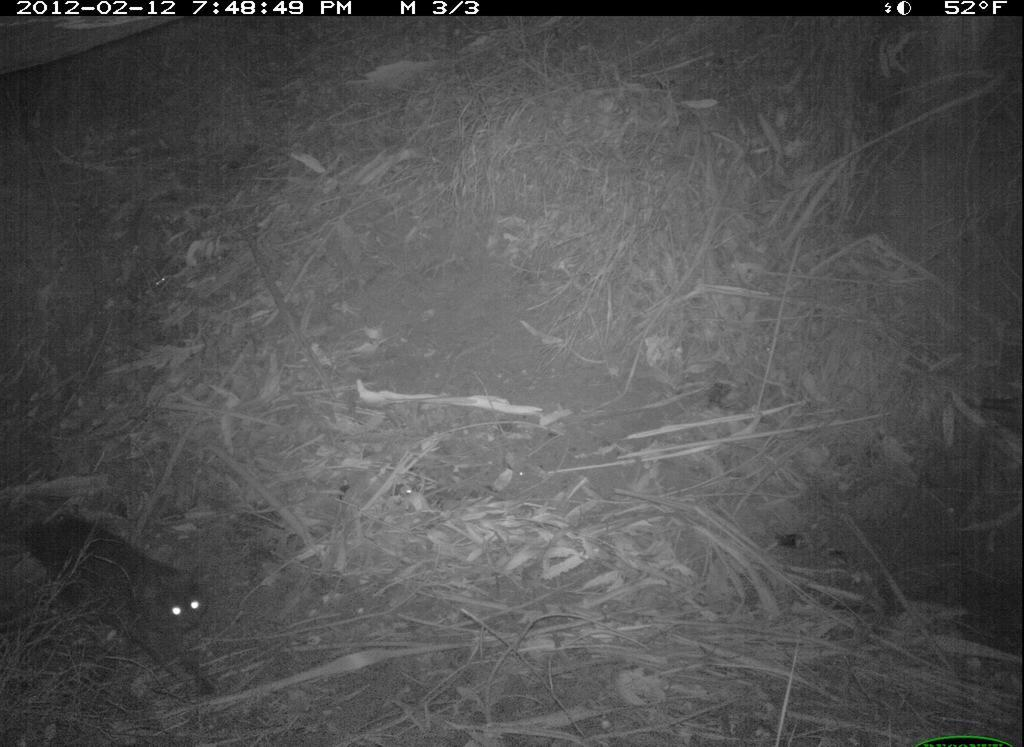cat: (18, 487, 225, 719)
